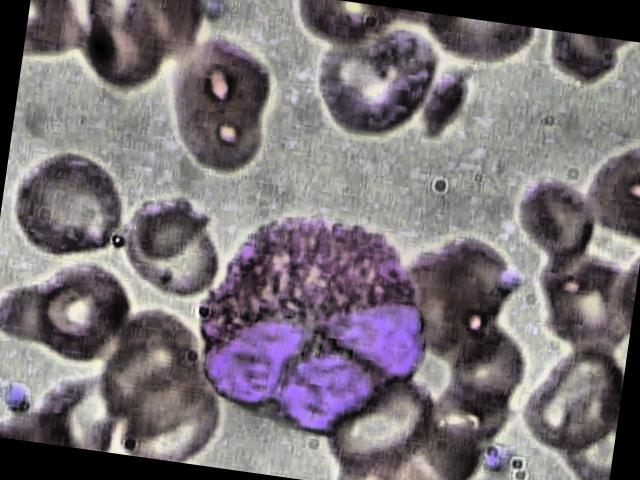Platelets: (0, 374, 41, 417), (478, 440, 514, 474)
RBC: (301, 14, 448, 152), (162, 32, 286, 183), (2, 144, 136, 266), (113, 181, 240, 300), (514, 168, 600, 259), (579, 137, 640, 253)
WBC: (180, 196, 453, 450)
